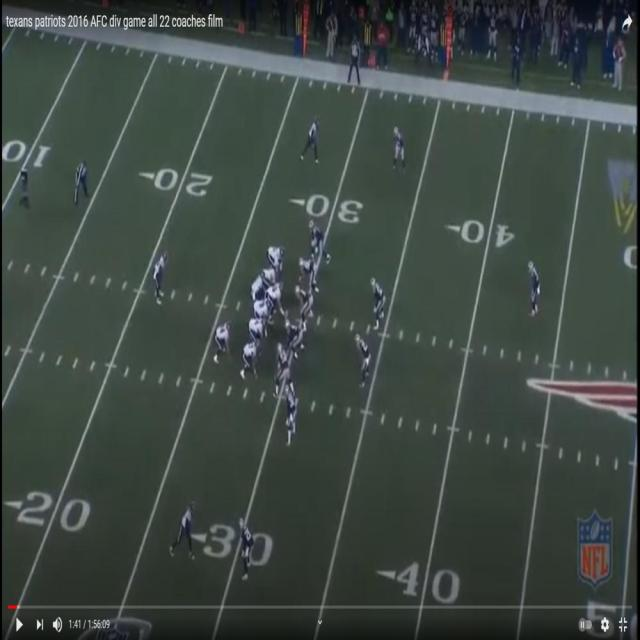center: (270, 280, 286, 319)
db: (237, 516, 254, 582), (528, 262, 541, 316), (286, 384, 296, 446), (393, 127, 403, 171)
lb: (352, 334, 373, 383), (371, 278, 387, 324)
qb: (250, 268, 264, 300)
skill: (181, 501, 195, 556), (310, 218, 325, 262), (241, 337, 259, 373), (275, 341, 290, 383), (306, 117, 320, 160), (153, 252, 166, 298), (216, 319, 228, 358)
